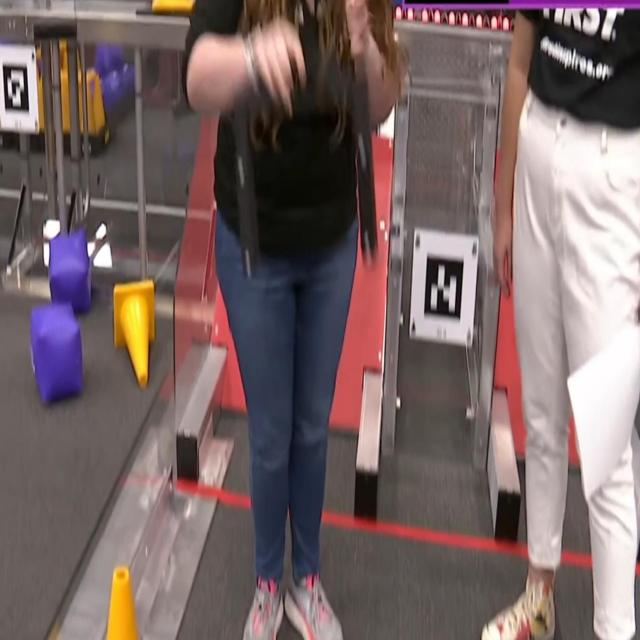frc_cone: (112, 279, 156, 388), (103, 569, 146, 640), (92, 74, 110, 133), (59, 69, 75, 132), (80, 81, 96, 138)
frc_cube: (31, 300, 84, 400), (50, 234, 91, 308), (116, 60, 140, 102), (96, 38, 117, 66), (108, 72, 121, 101)
